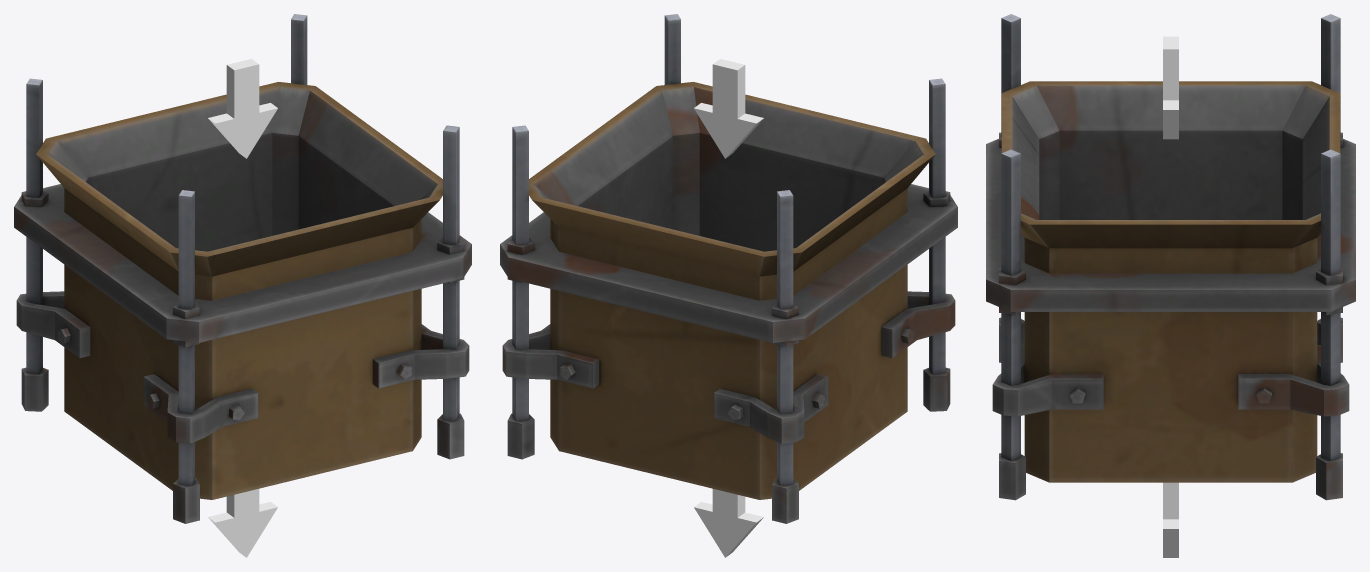
Rendered from Chute_Top.glb.
3 views of the same model, side by side, from view 1: azimuth 30°, elevation 25°; view 2: azimuth 150°, elevation 25°; view 3: azimuth 270°, elevation 25° (orthographic). The views are drawn at different scales.
Visible parts, largest first — view 1: Chute_Top, ghostarrow, ghostarrow (1); view 2: Chute_Top, ghostarrow, ghostarrow (1); view 3: Chute_Top, ghostarrow, ghostarrow (1).
Boxes of the visible parts, left/top/right/bottom form: Chute_Top: left=14, top=14, right=471, bottom=523; ghostarrow: left=208, top=59, right=277, bottom=158; ghostarrow (1): left=208, top=489, right=277, bottom=557; Chute_Top: left=500, top=14, right=957, bottom=523; ghostarrow: left=694, top=59, right=763, bottom=158; ghostarrow (1): left=694, top=489, right=763, bottom=557; Chute_Top: left=986, top=14, right=1355, bottom=500; ghostarrow: left=1163, top=36, right=1178, bottom=139; ghostarrow (1): left=1163, top=482, right=1178, bottom=557.
Bounding box in the file's own units: 1 × 1.54 × 1.
Materials: 2 (1 with a texture image).
